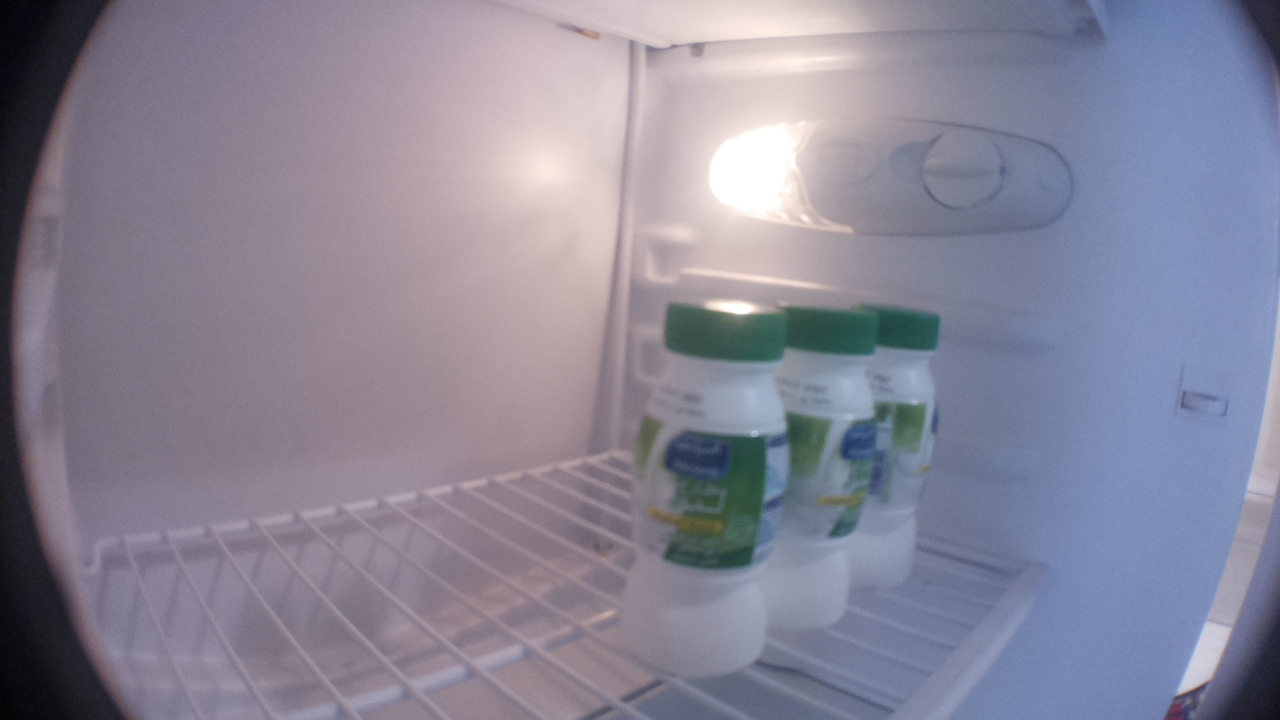laban: (620, 297, 787, 680), (770, 297, 880, 637), (868, 300, 939, 589)
